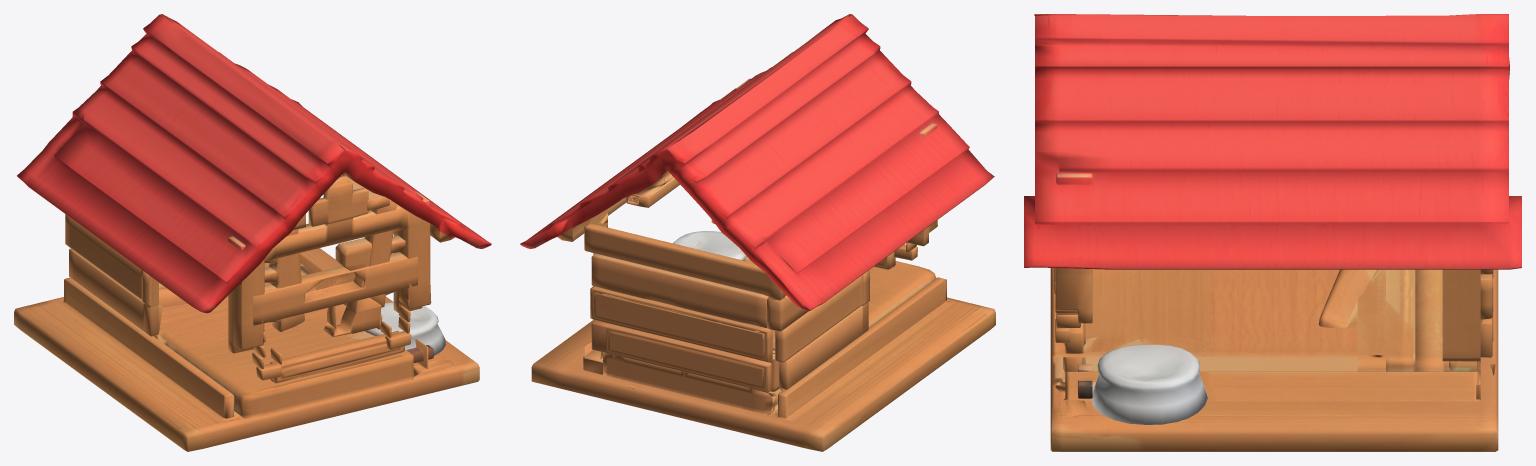
File: Meshy_AI_Stylized_low_poly_woo_0426213453_texture.fbx
3 renders of one model, left to right at view 1: azimuth 30°, elevation 25°; view 2: azimuth 150°, elevation 25°; view 3: azimuth 270°, elevation 25°, orthographic. The views are drawn at different scales.
Visible parts, largest first — view 1: Mesh_0; view 2: Mesh_0; view 3: Mesh_0.
Part boxes in pixels (bbox=[...]): Mesh_0: bbox=[14, 14, 491, 451]; Mesh_0: bbox=[520, 14, 995, 451]; Mesh_0: bbox=[1024, 14, 1521, 451].
Bounding box in the file's own units: 175 × 154 × 199.
1 material, 1 textured.
